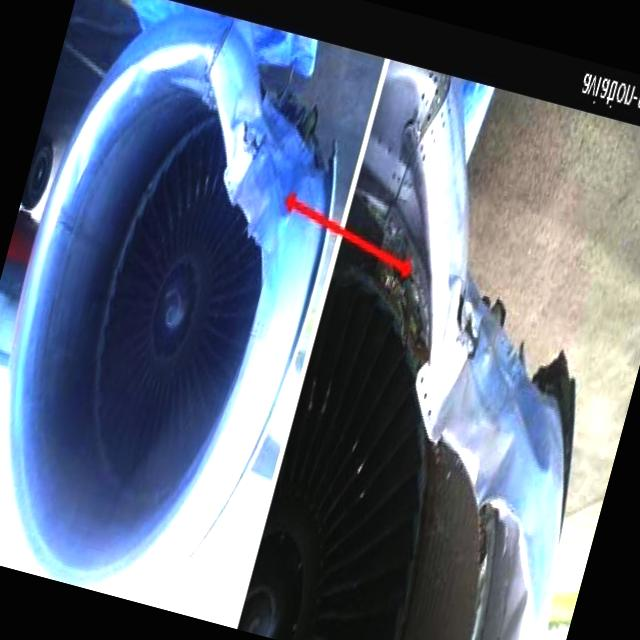dent: (482, 515, 549, 640), (414, 326, 482, 449), (466, 422, 523, 512)
